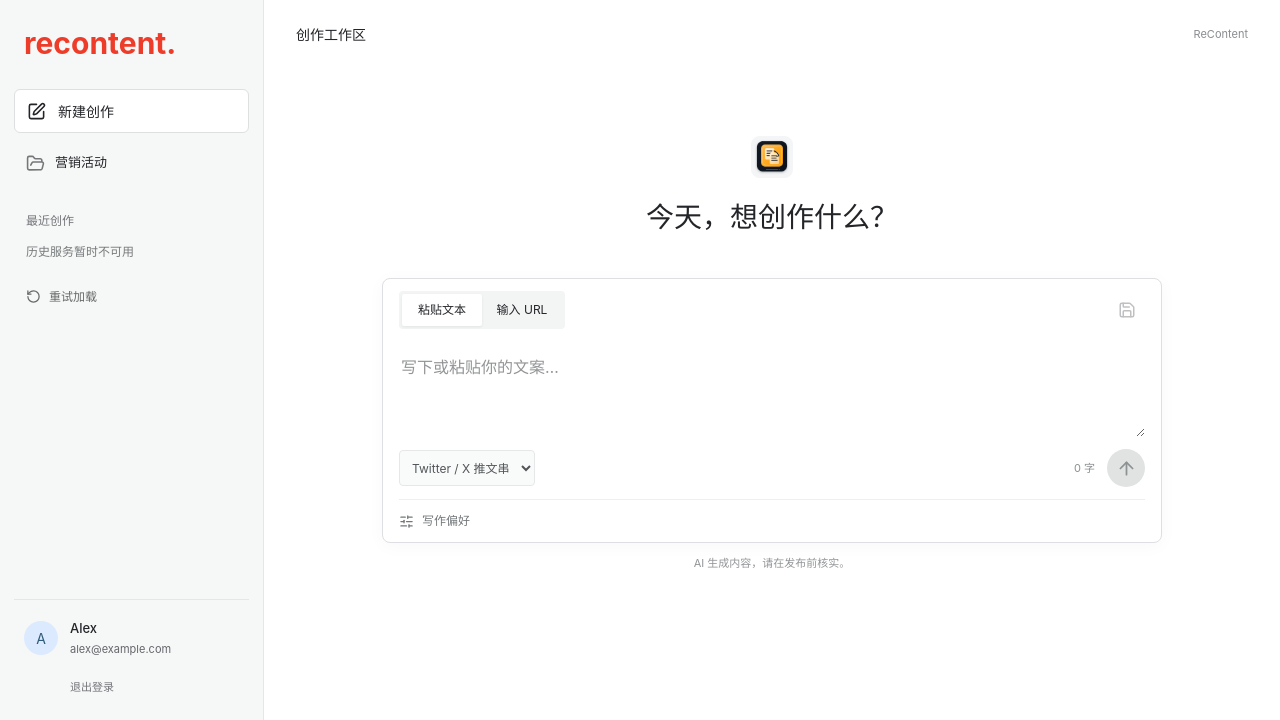
Scenario: offers a persistent retry when personal history cannot be loaded
Expected: the text "历史服务暂时不可用" is shown, [26,244,134,259]
Click the button "重试加载". click: (62, 297)
box: [26,277,97,317]
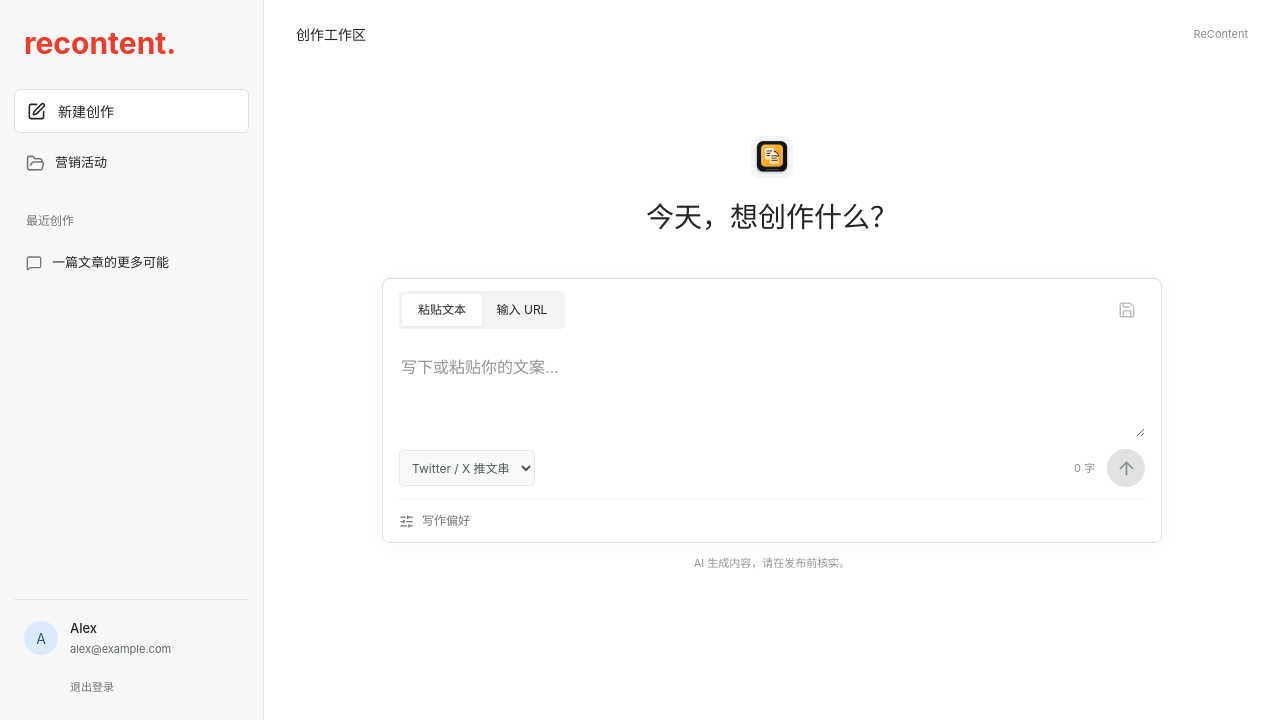
Expected: the button "一篇文章的更多可能" is shown, [14,241,249,285]
Expected: the text "历史服务暂时不可用" is gone
